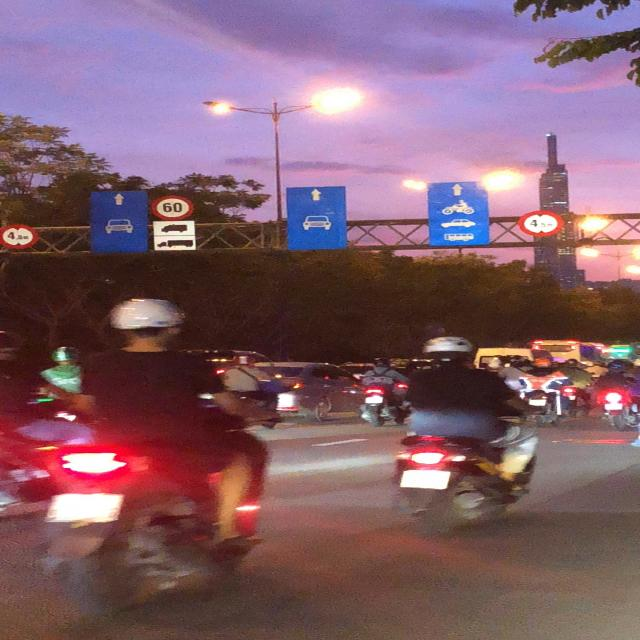Bien bao han che chieu cao: (518, 210, 570, 238), (0, 220, 40, 252)
Bien bao toc do toi da cho phep: (147, 192, 195, 221)
